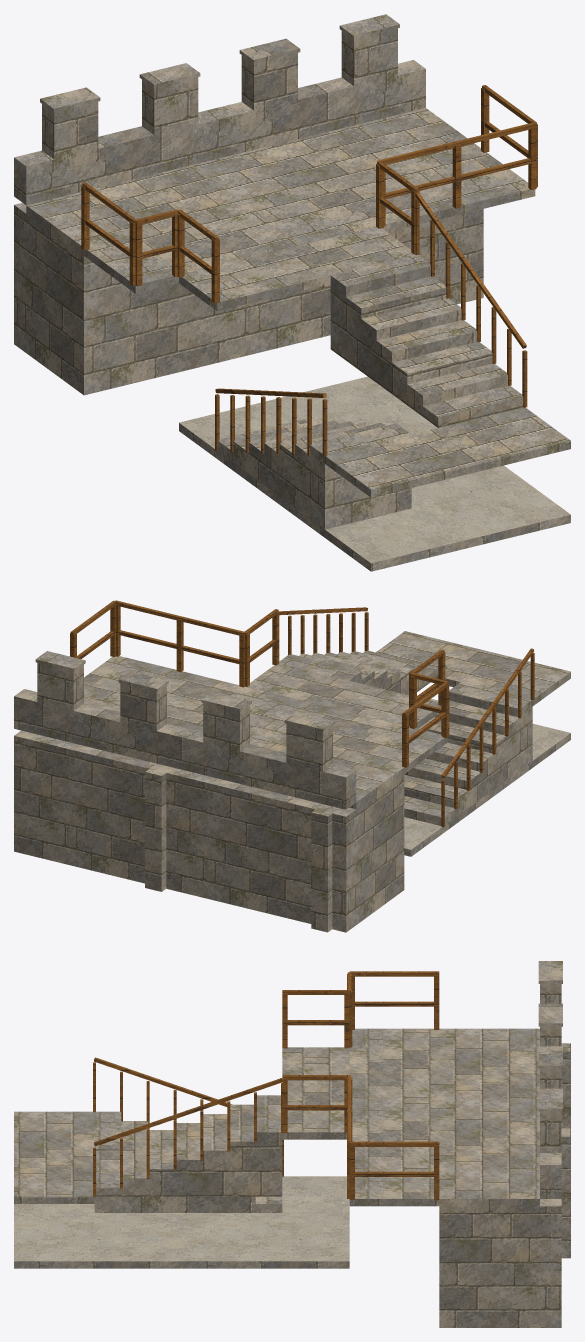
File: castle-rampart-platform.gltf
3 views of the same model, one above another, from view 1: azimuth 30°, elevation 25°; view 2: azimuth 150°, elevation 25°; view 3: azimuth 270°, elevation 25° (orthographic). The views are drawn at different scales.
Visible parts, largest first — view 1: curtain-L0-stone, walkway-L1-stone, stairs-L0-stone, floor-L0-plaster, guards-L1-wood, stairs-L0-wood, floor-L0-stone; view 2: curtain-L0-stone, stairs-L0-stone, walkway-L1-stone, guards-L1-wood, stairs-L0-wood, floor-L0-plaster, floor-L0-stone; view 3: walkway-L1-stone, stairs-L0-stone, curtain-L0-stone, floor-L0-plaster, guards-L1-wood, stairs-L0-wood, floor-L0-stone.
Boxes of the visible parts, <box> form: curtain-L0-stone: <box>14,14,483,395</box>; walkway-L1-stone: <box>26,108,535,311</box>; stairs-L0-stone: <box>218,254,570,529</box>; floor-L0-plaster: <box>179,376,570,563</box>; guards-L1-wood: <box>81,85,537,303</box>; stairs-L0-wood: <box>215,192,527,456</box>; floor-L0-stone: <box>179,423,570,571</box>; curtain-L0-stone: <box>14,651,404,932</box>; stairs-L0-stone: <box>279,631,570,825</box>; walkway-L1-stone: <box>84,656,447,809</box>; guards-L1-wood: <box>70,600,449,767</box>; stairs-L0-wood: <box>279,607,534,827</box>; floor-L0-plaster: <box>404,695,570,849</box>; floor-L0-stone: <box>404,733,570,856</box>; walkway-L1-stone: <box>282,1028,539,1206</box>; stairs-L0-stone: <box>14,1095,282,1212</box>; curtain-L0-stone: <box>439,961,570,1327</box>; floor-L0-plaster: <box>14,1176,349,1261</box>; guards-L1-wood: <box>282,971,439,1199</box>; stairs-L0-wood: <box>93,1057,283,1197</box>; floor-L0-stone: <box>14,1261,349,1268</box>.
Size of the model in its own units: 6.08 by 3.54 by 8.3.
3 materials, 3 textured.
